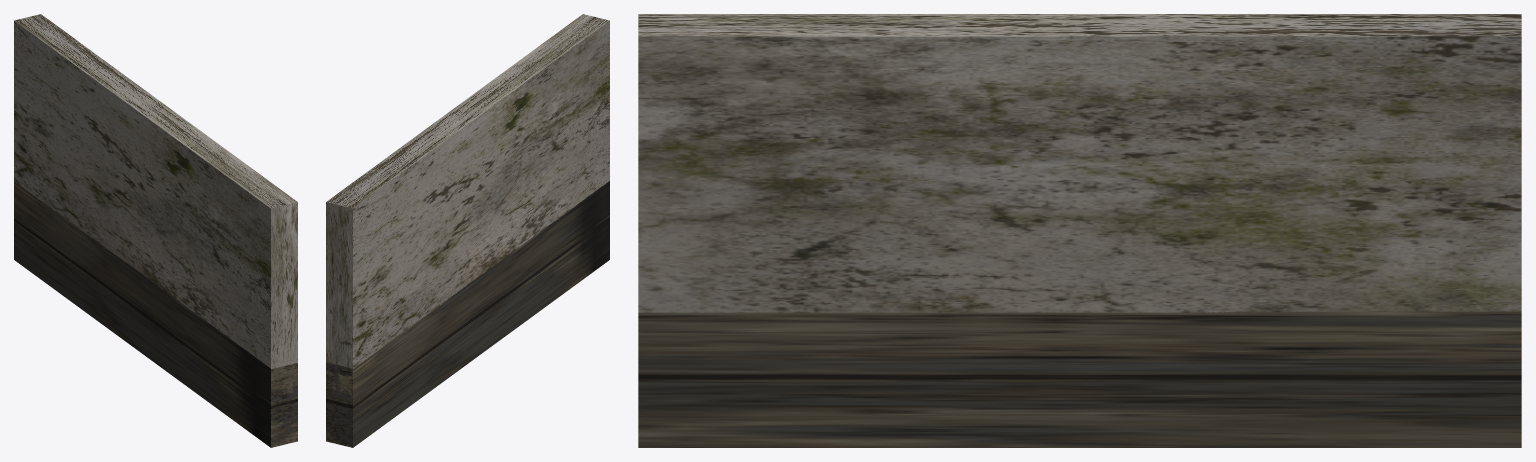
The model's file is wall.fbx.
3 views of the same model, side by side, from view 1: azimuth 30°, elevation 25°; view 2: azimuth 150°, elevation 25°; view 3: azimuth 270°, elevation 25° (orthographic). The views are drawn at different scales.
Parts seen in each view (by area): view 1: Cube, Cube.001; view 2: Cube, Cube.001; view 3: Cube, Cube.001.
Boxes of the visible parts, <box> form: Cube: <box>14,14,297,369</box>; Cube.001: <box>14,181,297,447</box>; Cube: <box>326,14,609,368</box>; Cube.001: <box>326,181,609,447</box>; Cube: <box>638,14,1521,312</box>; Cube.001: <box>638,311,1521,447</box>.
Size of the model in its own units: 111 by 946 by 1842.
Materials: 2 (2 with a texture image).
